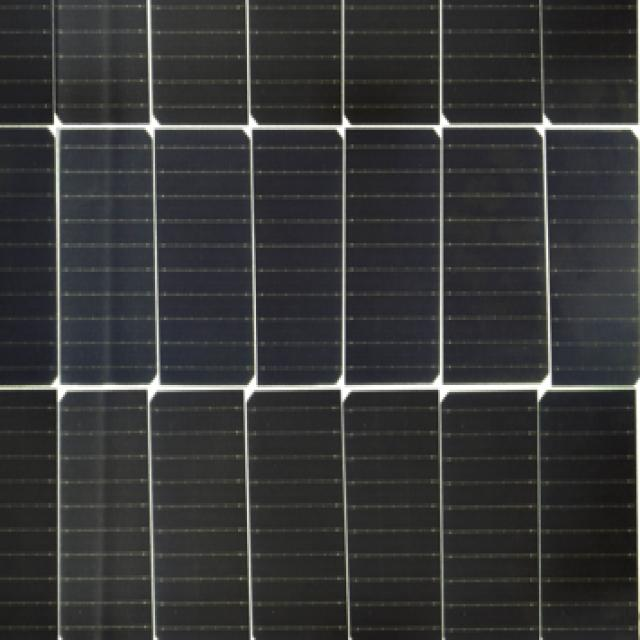MISALIGNMENT: (83, 322, 621, 428)
